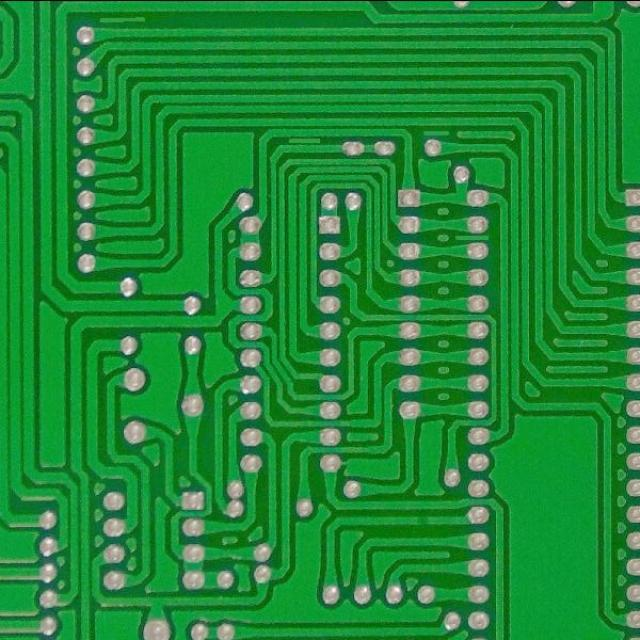Spurious_Cooper: (96, 12, 149, 26), (451, 232, 493, 244), (420, 126, 452, 139), (286, 136, 323, 146)
